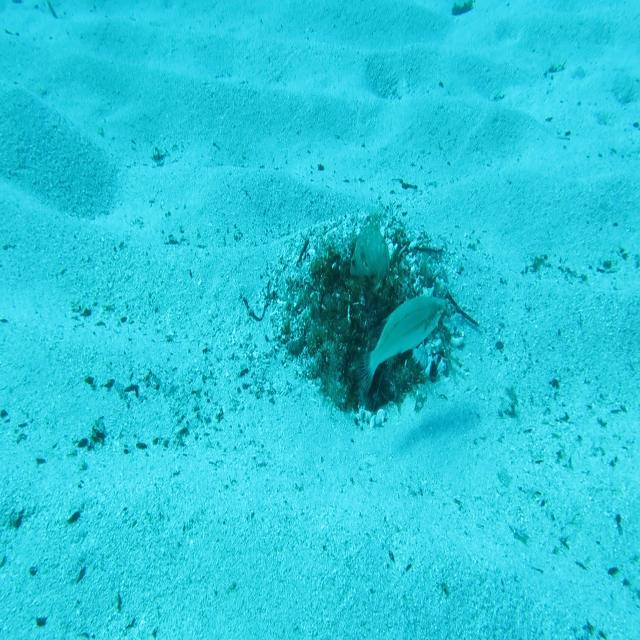INSF: (349, 203, 393, 283)
core_nest: (330, 264, 389, 316)
female: (352, 291, 448, 403)
nest: (262, 202, 475, 442)
vegetation: (448, 0, 477, 21)
